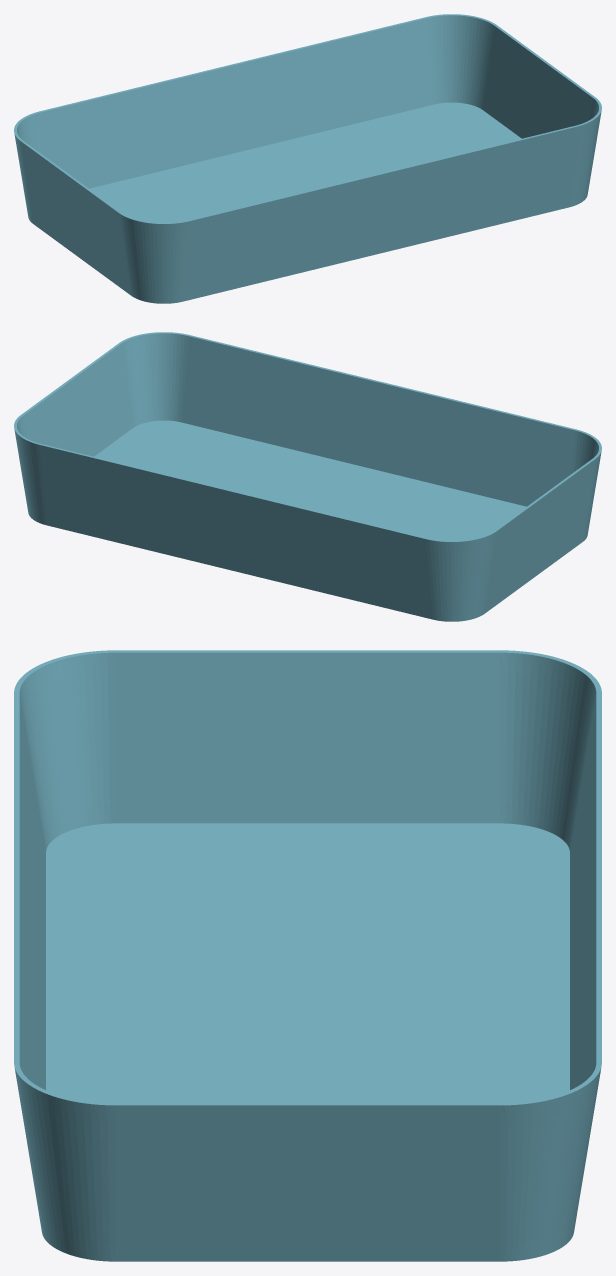
Rendered from part-solder-drip-tray-liner__v12__vase-filled__installed.glb.
3 renders of one model, top to bottom at view 1: azimuth 30°, elevation 25°; view 2: azimuth 150°, elevation 25°; view 3: azimuth 270°, elevation 25°, orthographic. The views are drawn at different scales.
Parts seen in each view (by area): view 1: part-solder-drip-tray__v12__upright__fit-pf02c9-hoop5__tool-; view 2: part-solder-drip-tray__v12__upright__fit-pf02c9-hoop5__tool-; view 3: part-solder-drip-tray__v12__upright__fit-pf02c9-hoop5__tool-.
Boxes of the visible parts, x1,y1,x2,y2 form: part-solder-drip-tray__v12__upright__fit-pf02c9-hoop5__tool-: [14, 14, 601, 303]; part-solder-drip-tray__v12__upright__fit-pf02c9-hoop5__tool-: [14, 332, 601, 621]; part-solder-drip-tray__v12__upright__fit-pf02c9-hoop5__tool-: [14, 650, 601, 1261].
Bounding box in the file's own units: 0.1162 × 0.02 × 0.0635.
